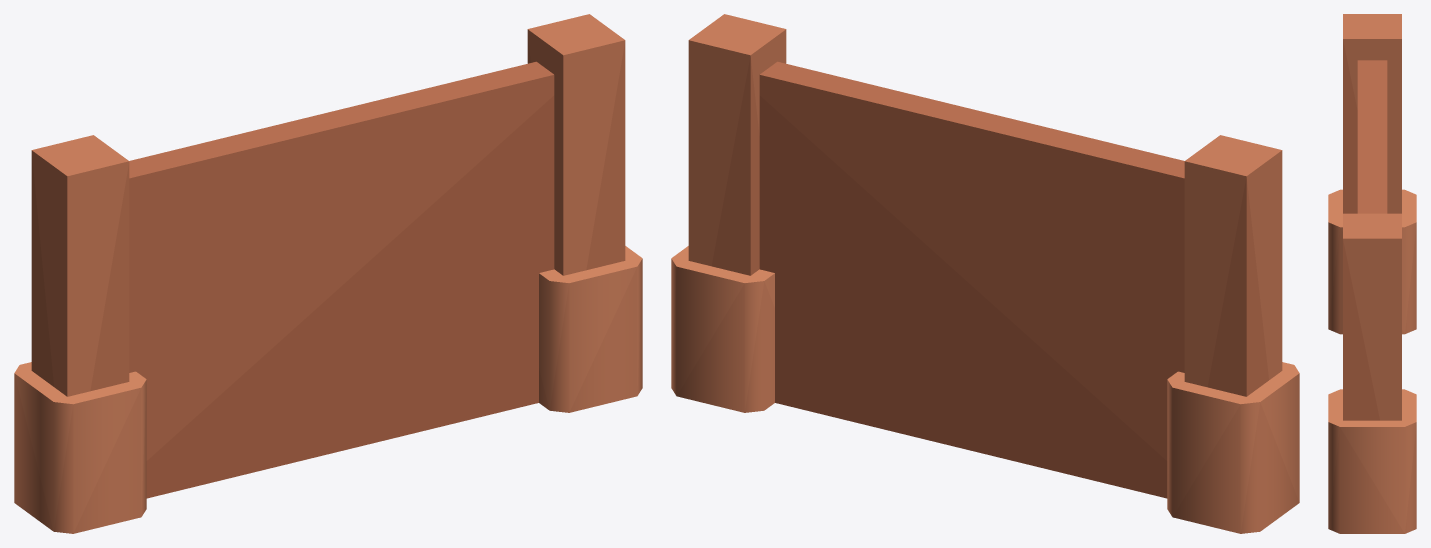
File: fence.obj
The picture shows the model from 3 angles, left to right: view 1: azimuth 30°, elevation 25°; view 2: azimuth 150°, elevation 25°; view 3: azimuth 270°, elevation 25°; orthographic projection. The views are drawn at different scales.
Bounding box in the file's own units: 0.475 × 0.27 × 0.075.
